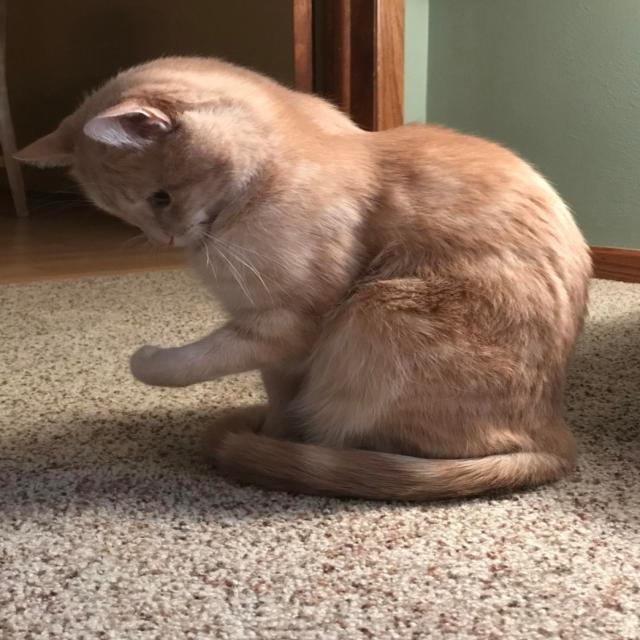cat: (2, 24, 636, 510)
